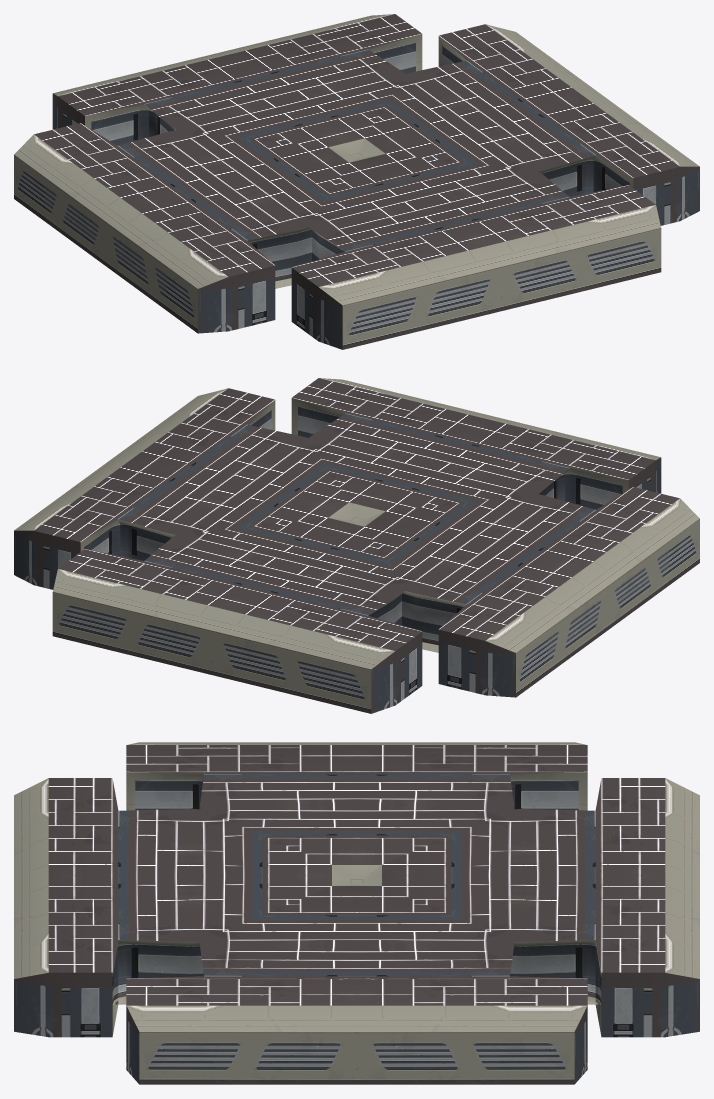
Rendered from KF_SM_XBuilding007.fbx.
3 renders of one model, top to bottom at view 1: azimuth 30°, elevation 25°; view 2: azimuth 150°, elevation 25°; view 3: azimuth 270°, elevation 25°, orthographic. The views are drawn at different scales.
Visible parts, largest first — view 1: KF_SM_XBuilding007; view 2: KF_SM_XBuilding007; view 3: KF_SM_XBuilding007.
Boxes of the visible parts, <box> form: KF_SM_XBuilding007: <box>14,14,699,349</box>; KF_SM_XBuilding007: <box>14,378,699,713</box>; KF_SM_XBuilding007: <box>14,742,699,1084</box>.
Bounding box in the file's own units: 14208 × 1472 × 14208.
